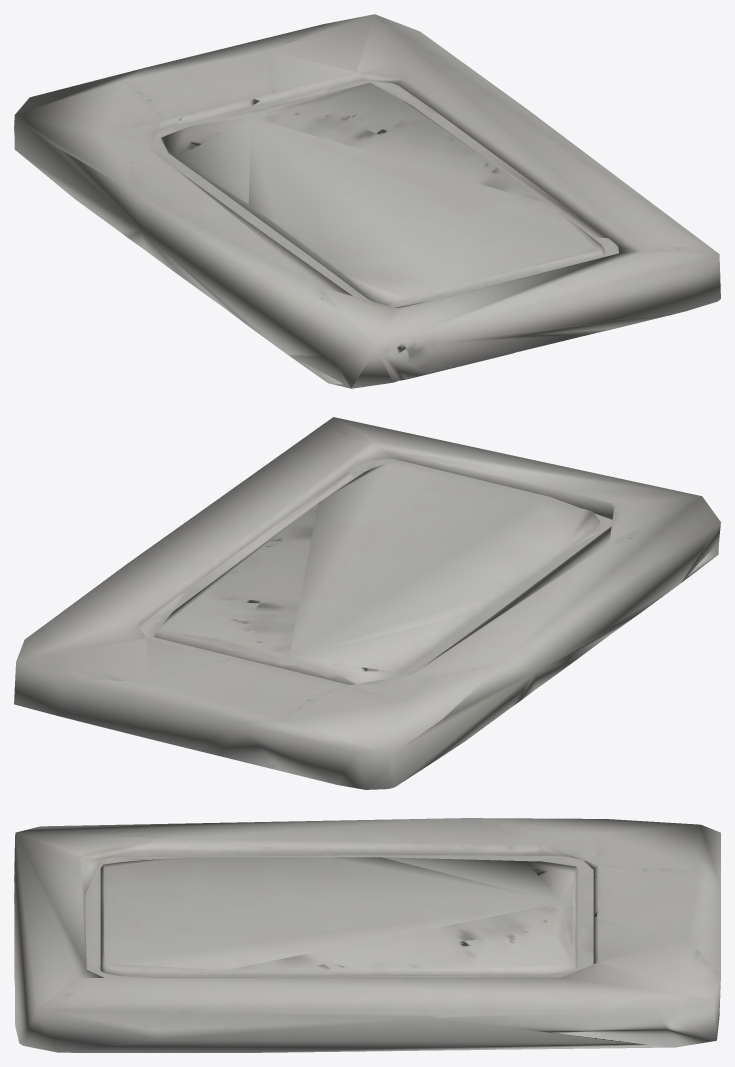
File: m2ArenaFloorTile.glb
The picture shows the model from 3 angles, top to bottom: view 1: azimuth 30°, elevation 25°; view 2: azimuth 150°, elevation 25°; view 3: azimuth 270°, elevation 25°; orthographic projection. The views are drawn at different scales.
Visible parts, largest first — view 1: model; view 2: model; view 3: model.
Boxes of the visible parts, x1,y1,x2,y2 form: model: [14, 14, 720, 388]; model: [14, 417, 720, 789]; model: [14, 818, 720, 1052].
Size of the model in its own units: 1.25 by 0.1274 by 1.88.
Materials: 1 (1 with a texture image).
